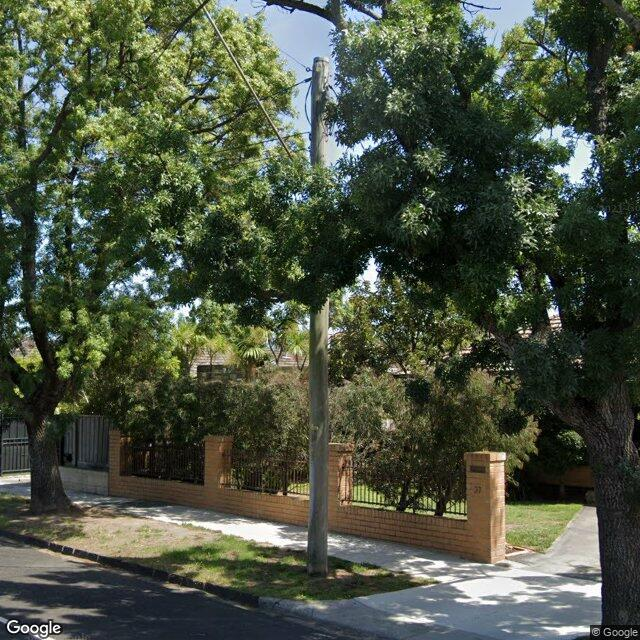streetlight: (198, 0, 294, 162)
timber-pole: (307, 58, 330, 577)
